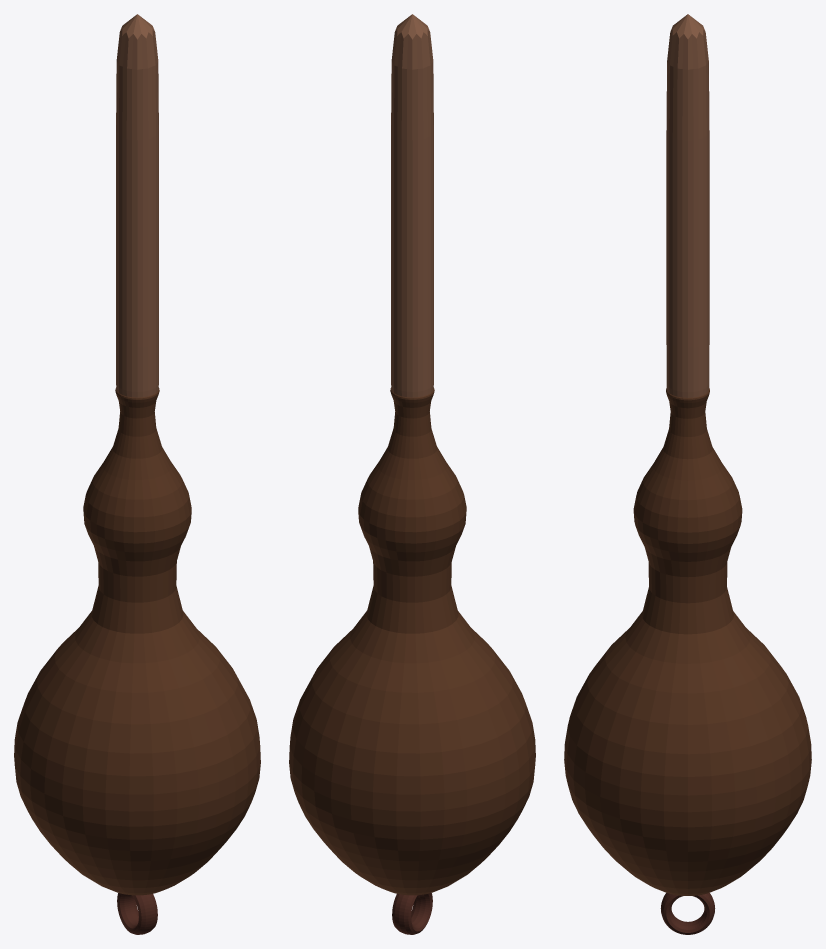
Rendered from Wand 611.glb.
The picture shows the model from 3 angles, left to right: view 1: azimuth 30°, elevation 25°; view 2: azimuth 150°, elevation 25°; view 3: azimuth 270°, elevation 25°; orthographic projection.
Visible parts, largest first — view 1: GeneratedWand; view 2: GeneratedWand; view 3: GeneratedWand.
Part boxes in pixels (box(x1,y1,x2,y2)): GeneratedWand: box(14, 14, 260, 934); GeneratedWand: box(289, 14, 535, 934); GeneratedWand: box(564, 14, 811, 934).
Bounding box in the file's own units: 0.123 × 0.5036 × 0.123.
